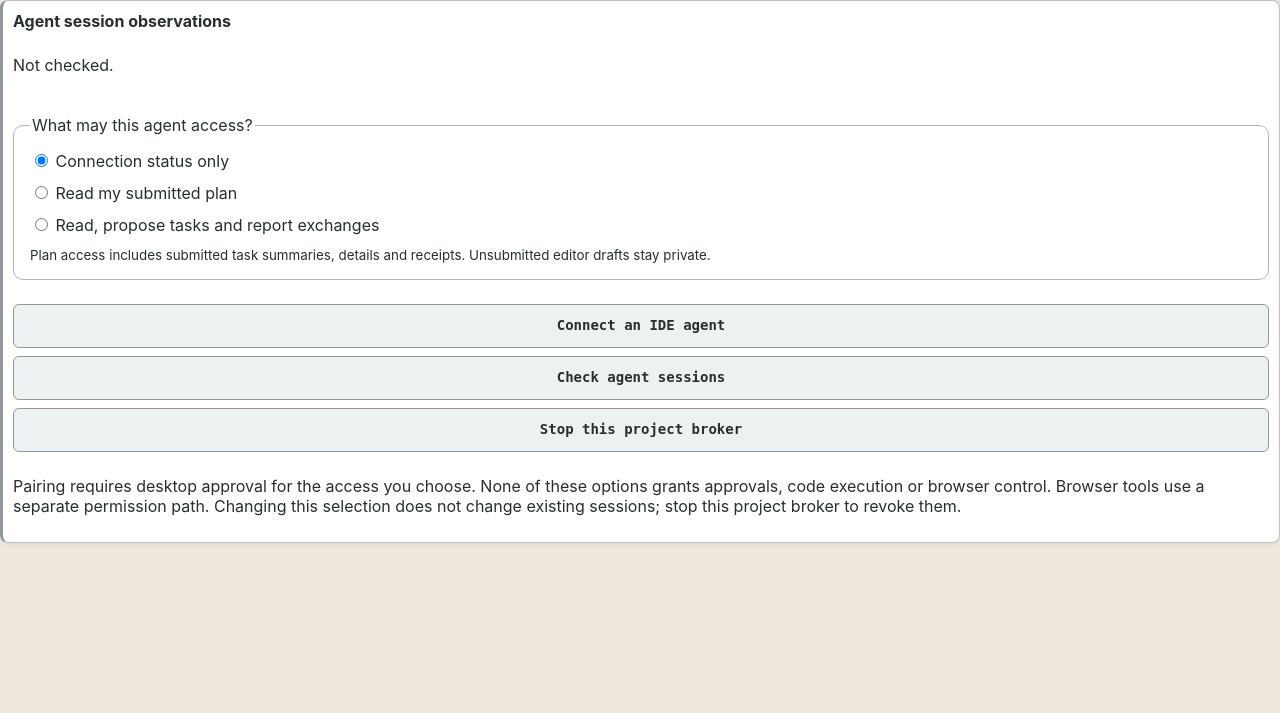
Scenario: proposal access uses separate native consent with exact census and no renderer grant flags
What coordinates should you click on to do the following:
click the radio button labelled "Read, propose tasks and report exchanges"
I would click on:
 (42, 224)
Its box is [35, 218, 48, 231].
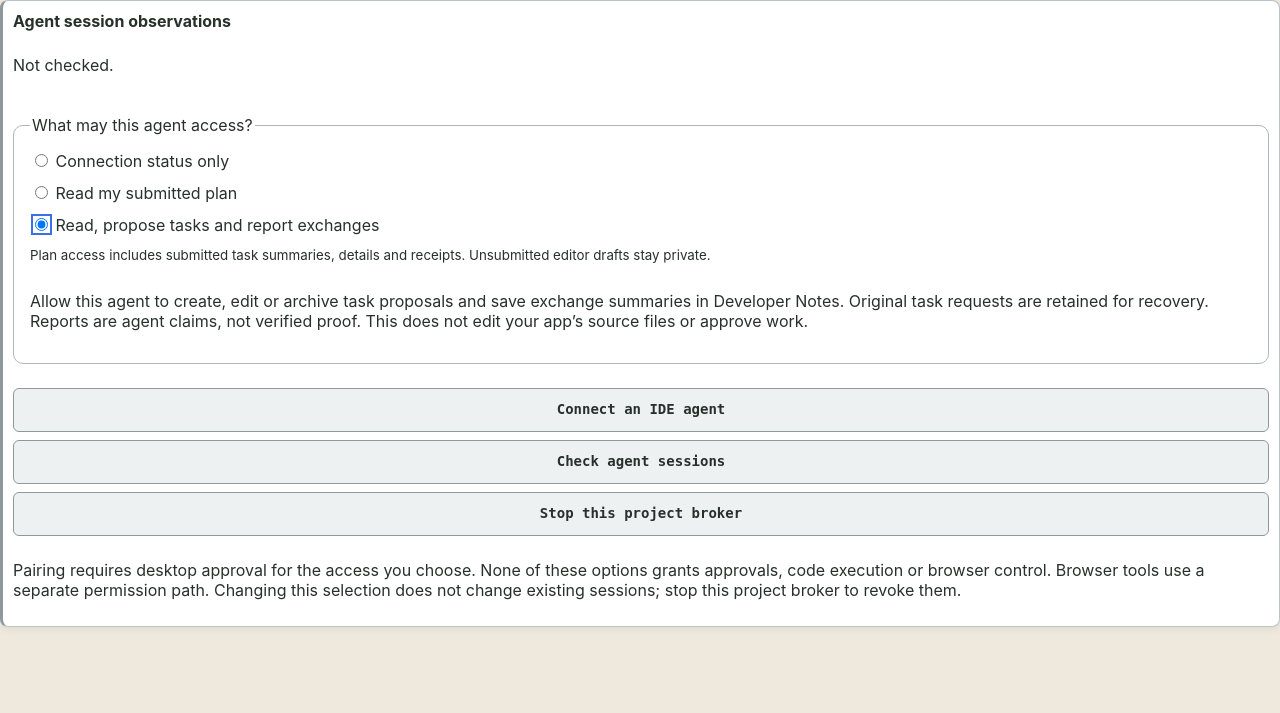
What coordinates should you click on to do the following:
click the button "Connect an IDE agent"
I would click on:
 (641, 410)
Its box is [13, 388, 1269, 432].
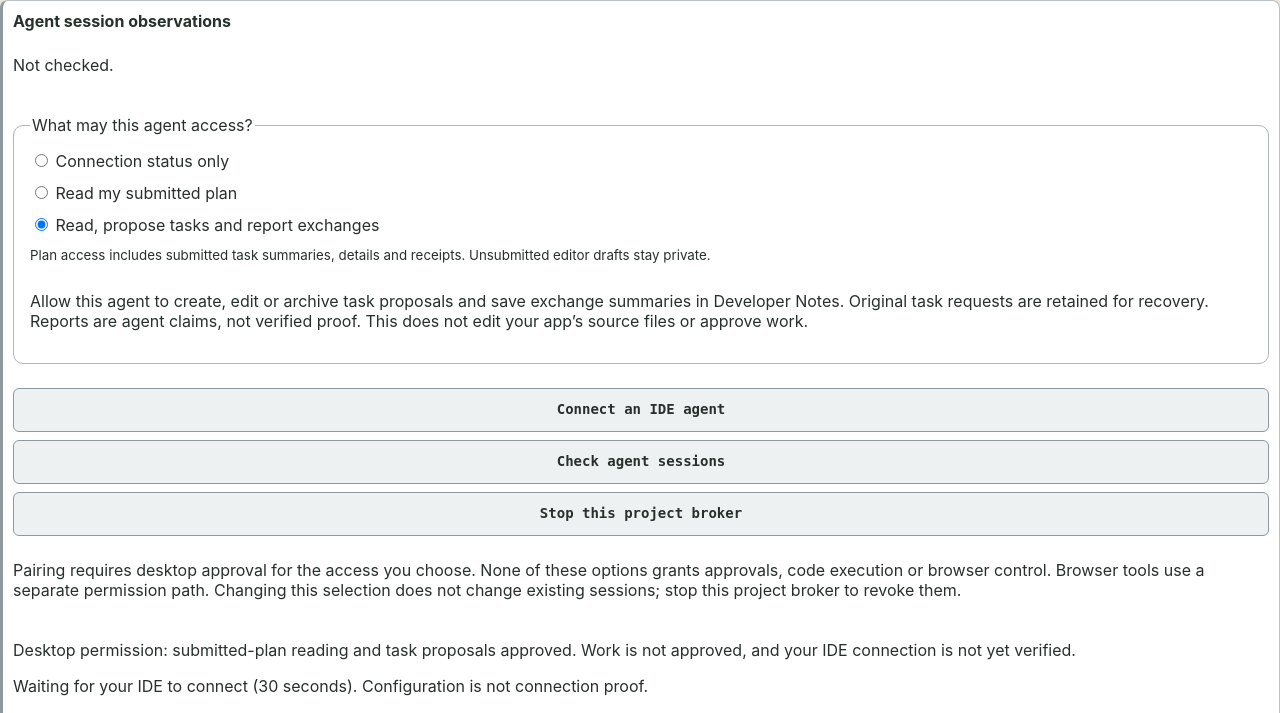
Expected: the text "Work is not approved, and your IDE connection is not yet verified" is shown, [13, 640, 1076, 660]
